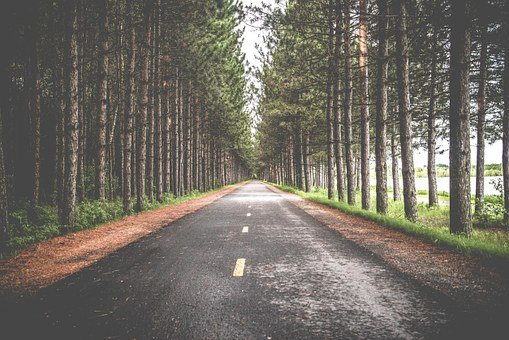forest: (7, 5, 504, 250)
road: (123, 167, 424, 340)
